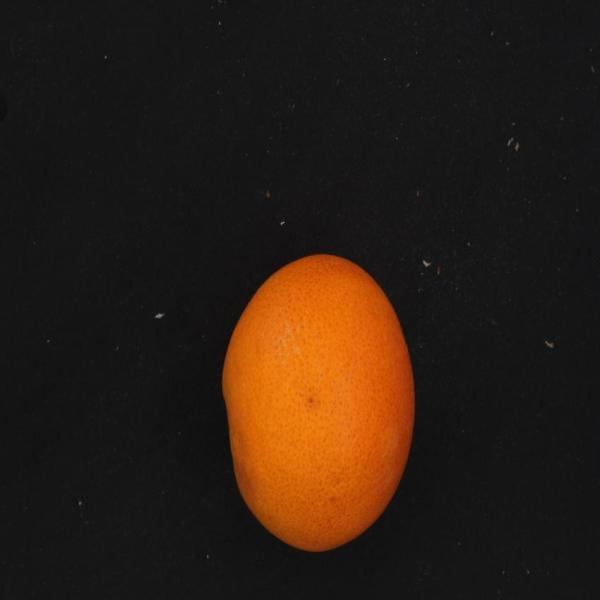Sana: (200, 246, 434, 554)
